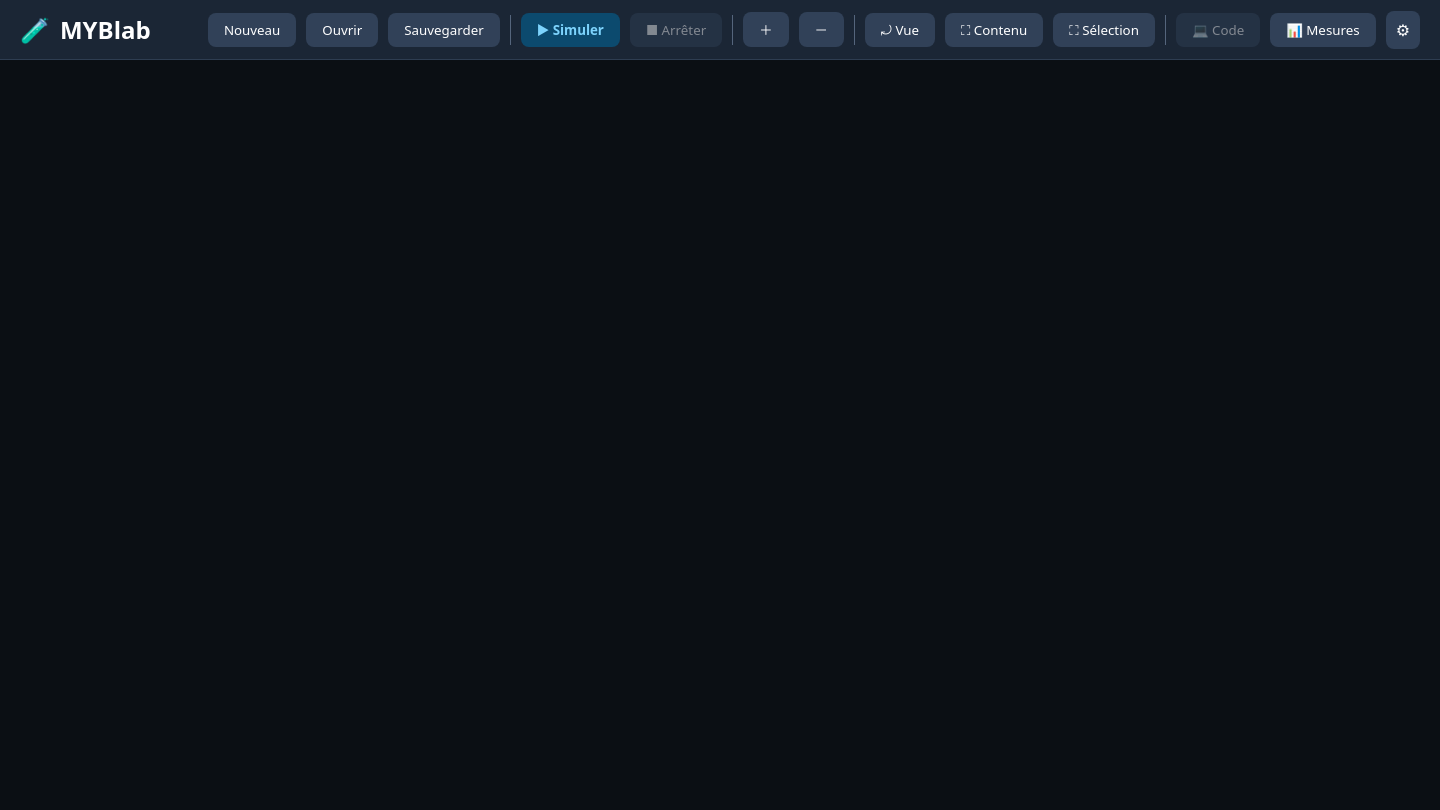
Scenario: MB-VIS-LAB-046 — SettingsPanel : ouverture/fermeture + cohérence thème (O7/F13, T28-T30) › T28 — Settings s'ouvre/se ferme correctement (comportement inchangé)
Expected: the text "Paramètres" is not shown
Step 1. Click the button titled "Paramètres" → [1403, 30], box [1386,10,1420,48]
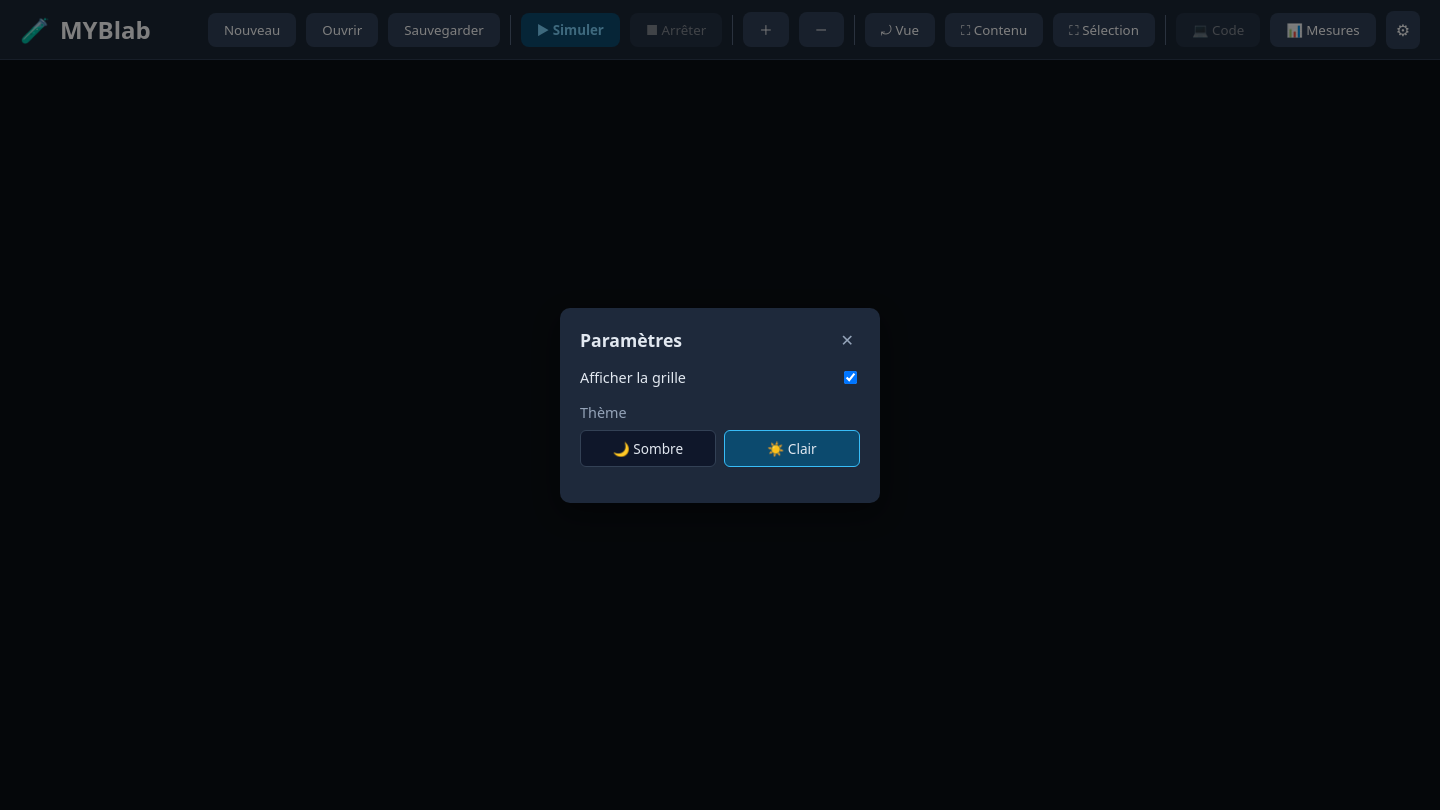
Now the element with class "settings-panel" is shown, box [560,308,880,502]
Step 2. Click the button with class "settings-panel__close" → [847, 340], box [835,328,860,352]
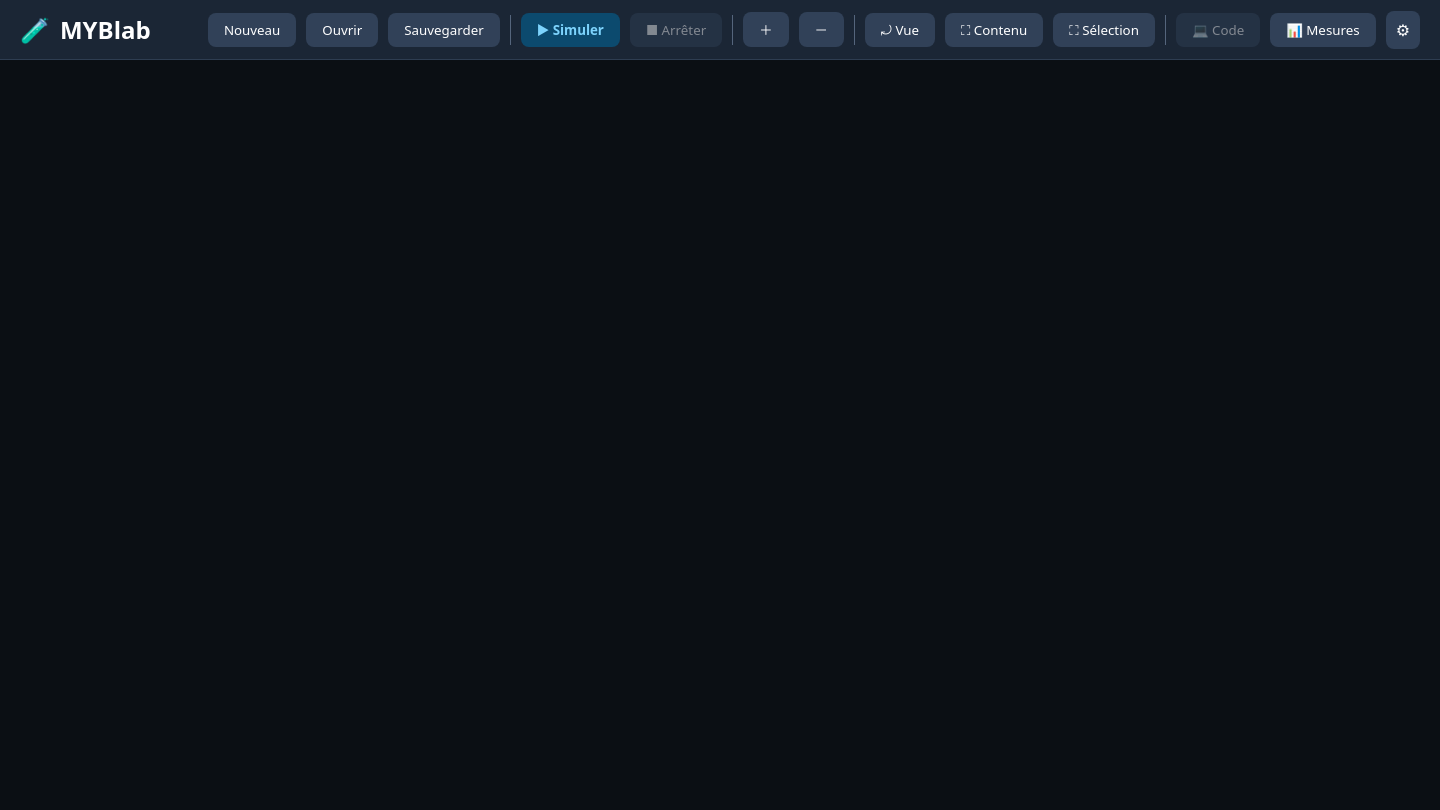
Now the element with class "settings-panel" is gone
